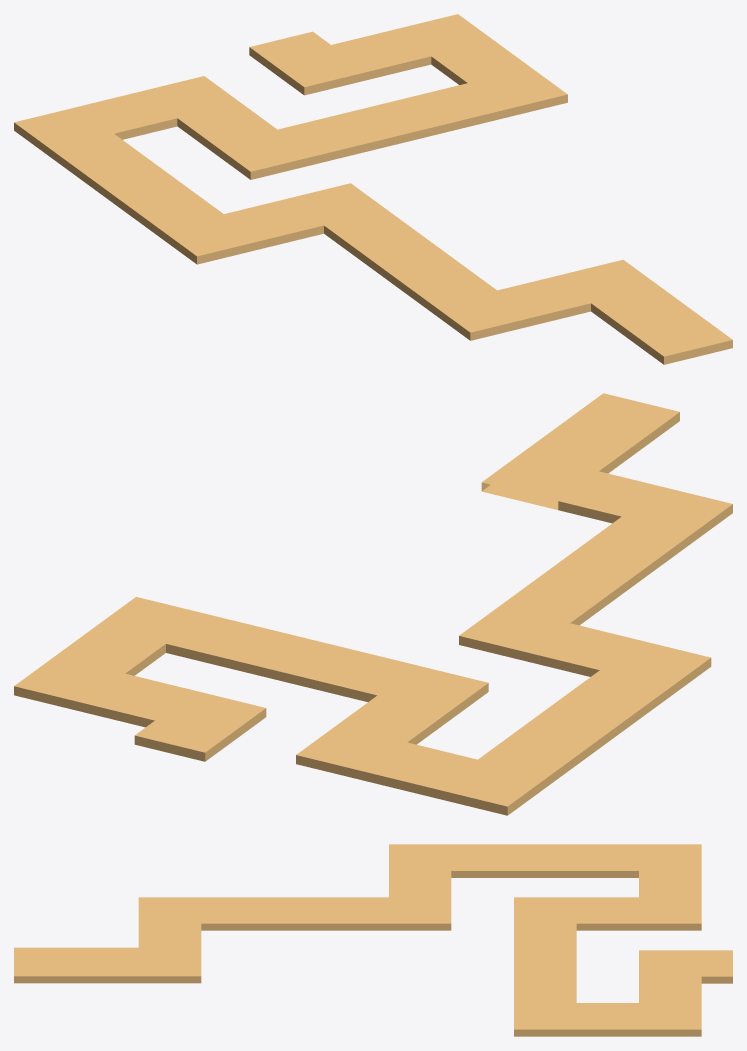
File: mazeRouteEasy.gltf
3 renders of one model, top to bottom at view 1: azimuth 30°, elevation 25°; view 2: azimuth 150°, elevation 25°; view 3: azimuth 270°, elevation 25°, orthographic. The views are drawn at different scales.
Visible parts, largest first — view 1: Cube; view 2: Cube; view 3: Cube.
Part boxes in pixels (bbox=[...]): Cube: bbox=[14, 14, 732, 364]; Cube: bbox=[14, 393, 732, 815]; Cube: bbox=[14, 844, 732, 1036].
Bounding box in the file's own units: 1.4 × 0.0247 × 2.3.
